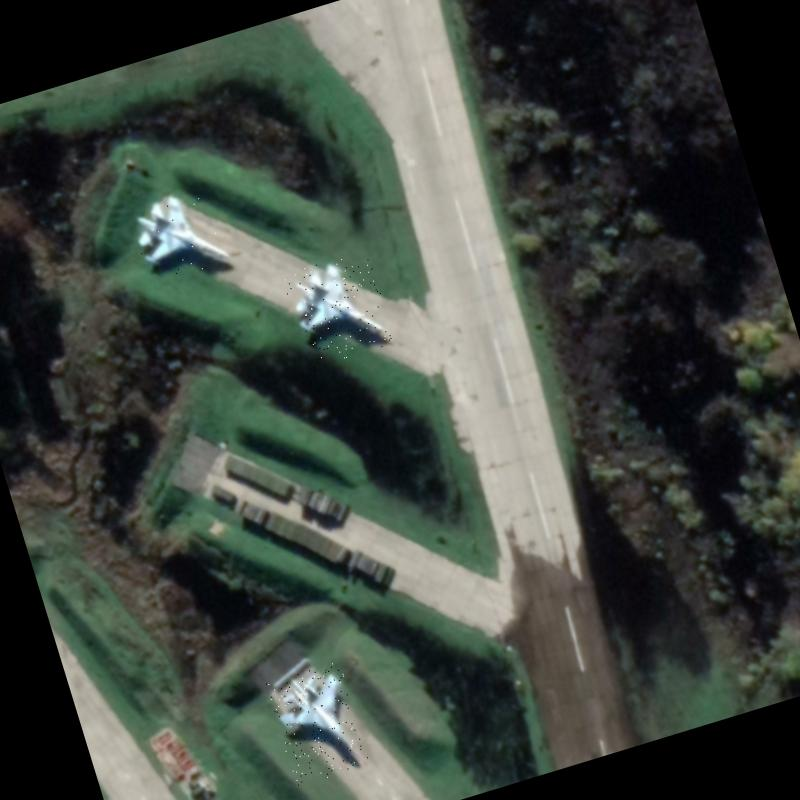A1: (281, 248, 397, 369), (265, 660, 371, 787), (126, 179, 237, 285)
